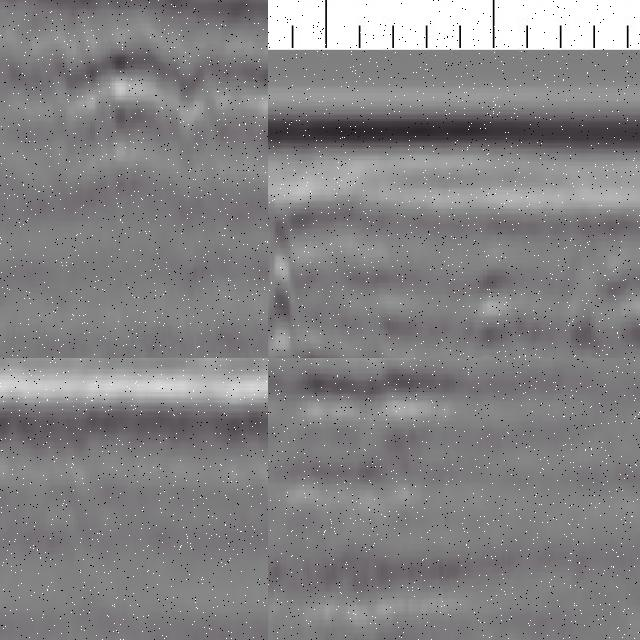crack: (269, 176, 301, 359)
loose: (51, 32, 269, 166), (307, 359, 428, 488)
